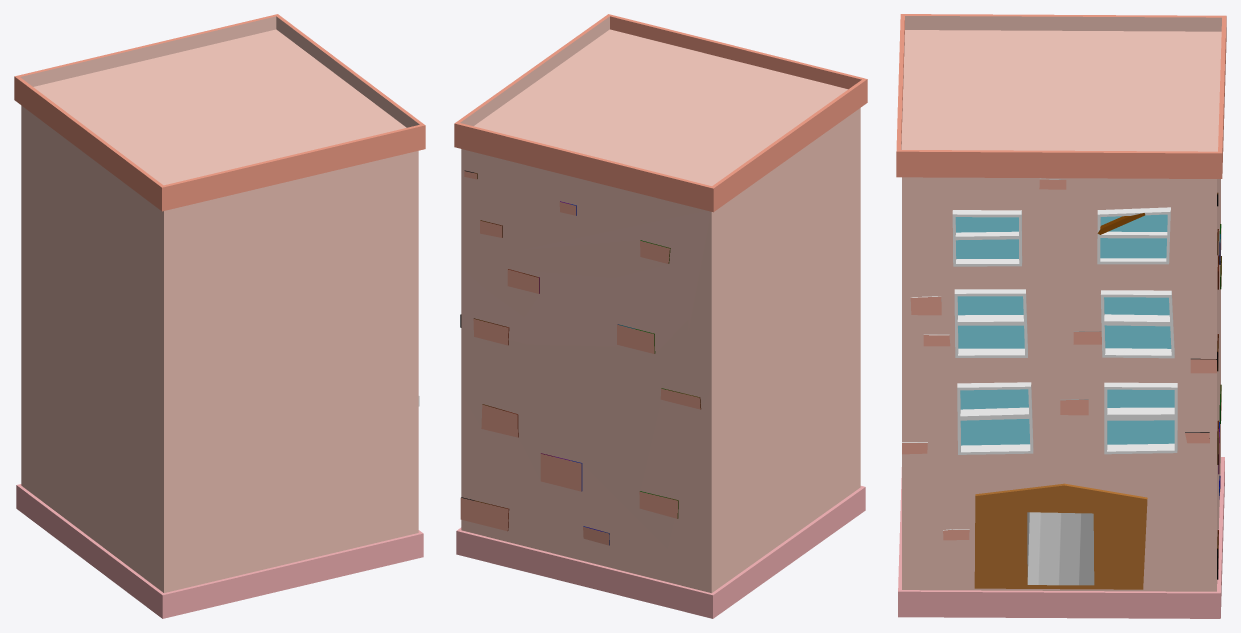
Rendered from Edifico.fbx.
The picture shows the model from 3 angles, left to right: view 1: azimuth 30°, elevation 25°; view 2: azimuth 150°, elevation 25°; view 3: azimuth 270°, elevation 25°; orthographic projection. The views are drawn at different scales.
Visible parts, largest first — view 1: Plane; view 2: Plane; view 3: Plane.
Part boxes in pixels (x1,y1,x2,y2): Plane: [14, 14, 425, 618]; Plane: [454, 14, 867, 618]; Plane: [896, 14, 1226, 618].
Size of the model in its own units: 124 by 191 by 122.
